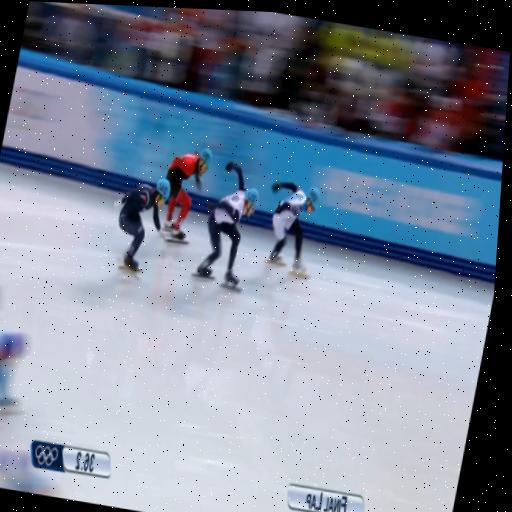Skater: (193, 162, 258, 290), (265, 182, 319, 277), (114, 179, 169, 272), (162, 149, 211, 244)
